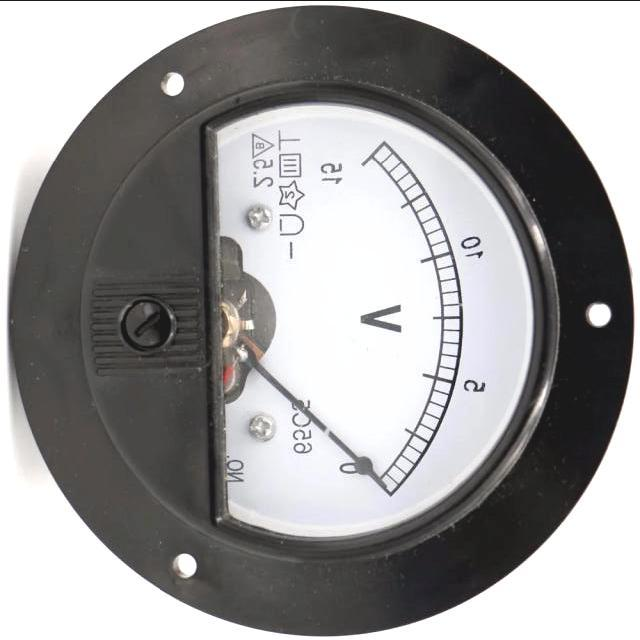Needle_Tip: (328, 408, 402, 528)
Needle_base: (123, 211, 278, 436)
max_value: (294, 132, 373, 208)
min_value: (327, 436, 368, 496)
